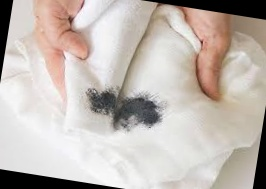ink: (84, 86, 164, 129)
